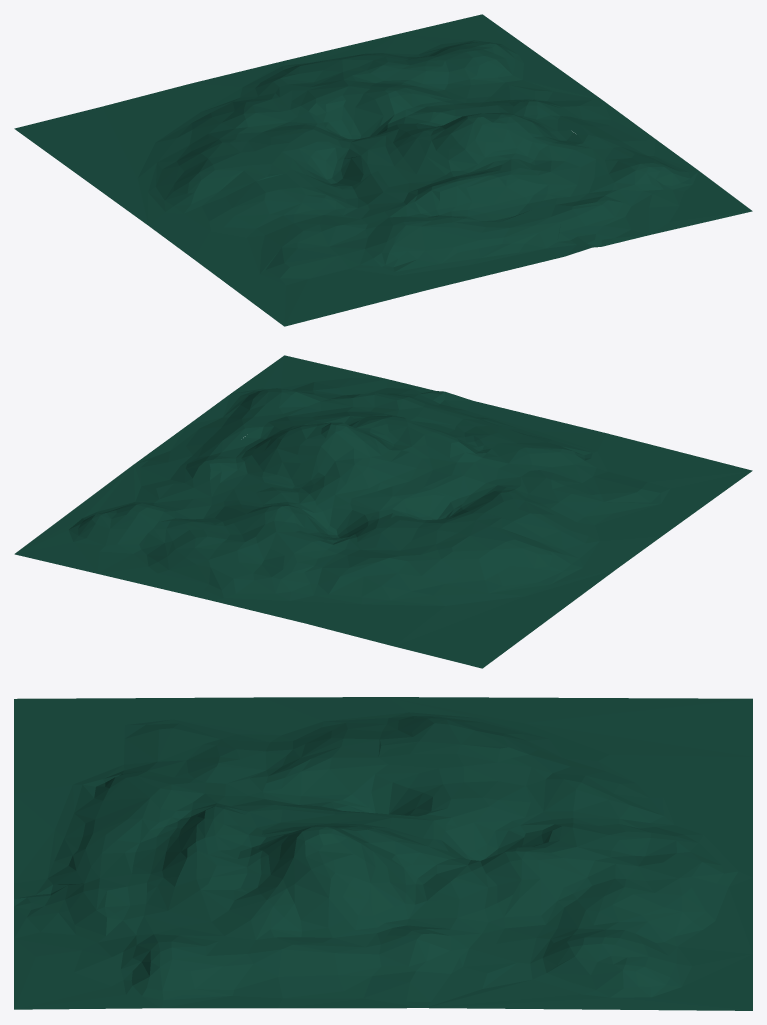
The model's file is landscape6.fbx.
3 views of the same model, one above another, from view 1: azimuth 30°, elevation 25°; view 2: azimuth 150°, elevation 25°; view 3: azimuth 270°, elevation 25° (orthographic). The views are drawn at different scales.
Visible parts, largest first — view 1: Plane; view 2: Plane; view 3: Plane.
Boxes of the visible parts, left/top/right/bottom form: Plane: left=14, top=14, right=752, bottom=326; Plane: left=14, top=355, right=752, bottom=668; Plane: left=14, top=697, right=752, bottom=1010.
Bounding box in the file's own units: 32000 × 3453 × 32000.
